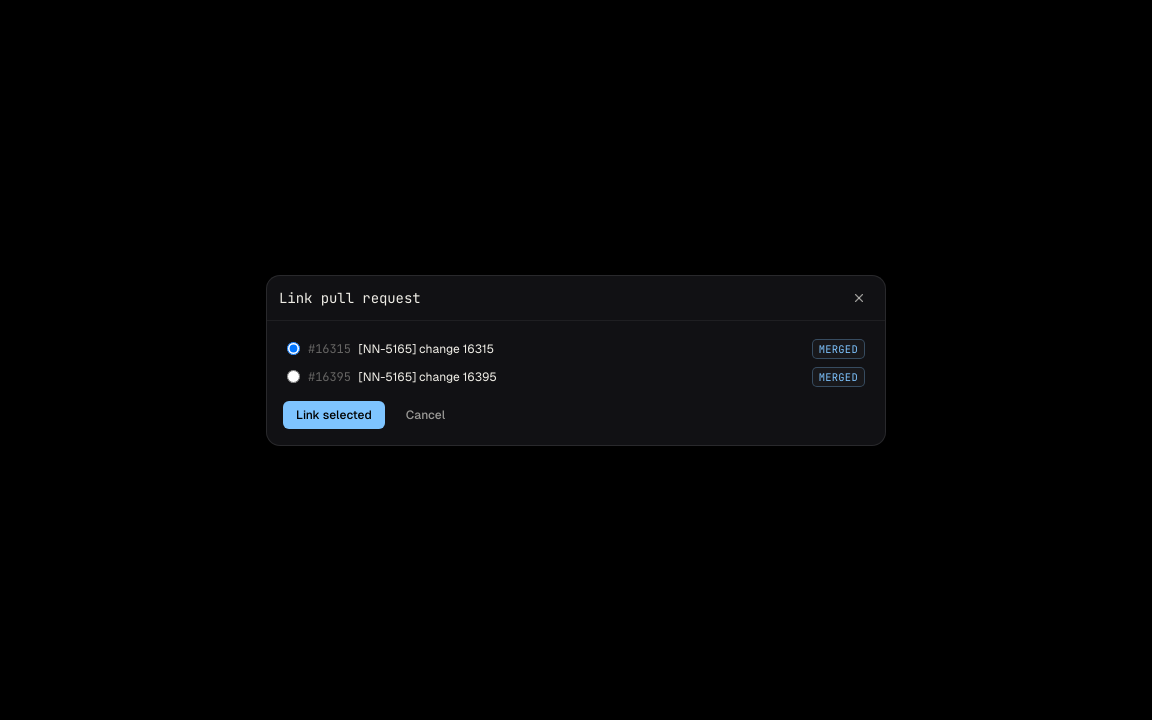
PrPickerDialog › only one candidate is selectable at a time
Expected: the radio button labelled "#16315 [NN-5165] change 16315 merged" is checked, x1=287 y1=342 x2=300 y2=355
Click the radio button labelled "#16395 [NN-5165] change 16395 merged". click: (294, 376)
box: x1=287 y1=370 x2=300 y2=383
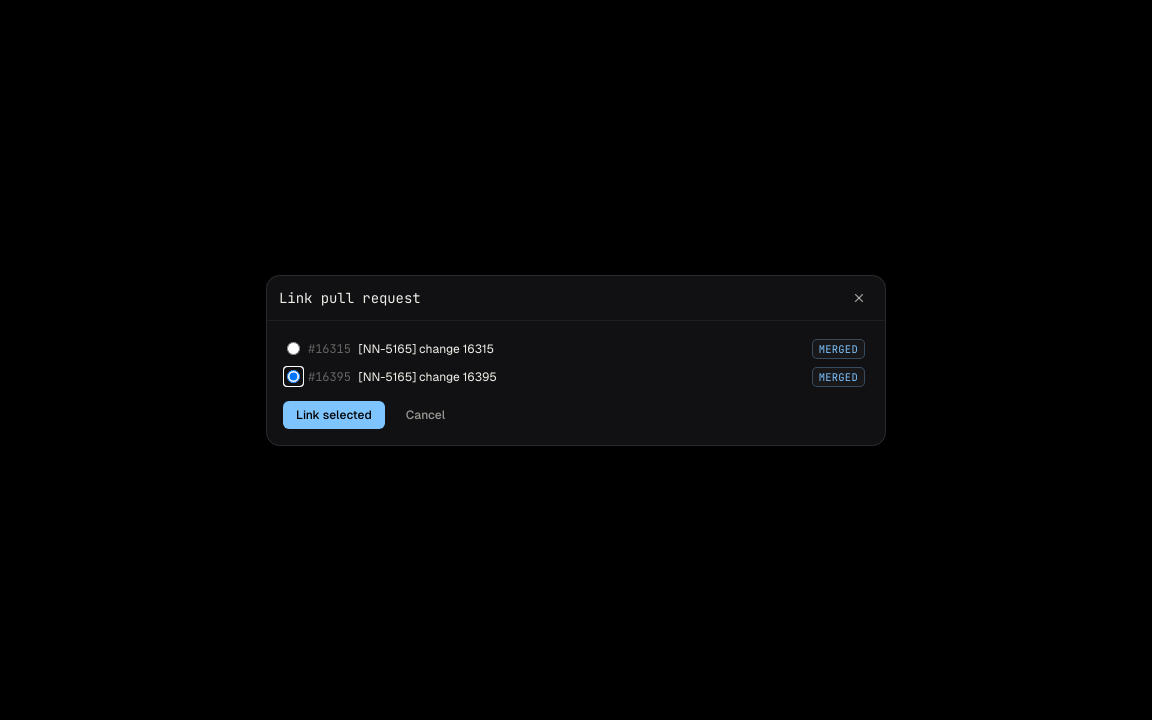
Now the radio button labelled "#16395 [NN-5165] change 16395 merged" is checked, box x1=287 y1=370 x2=300 y2=383
Now the radio button labelled "#16315 [NN-5165] change 16315 merged" is not checked, box x1=287 y1=342 x2=300 y2=355
